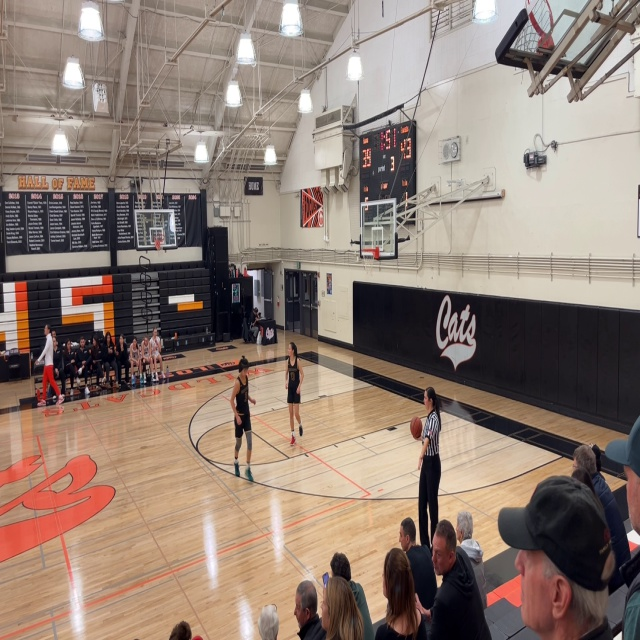Basketball: (410, 416, 422, 439)
